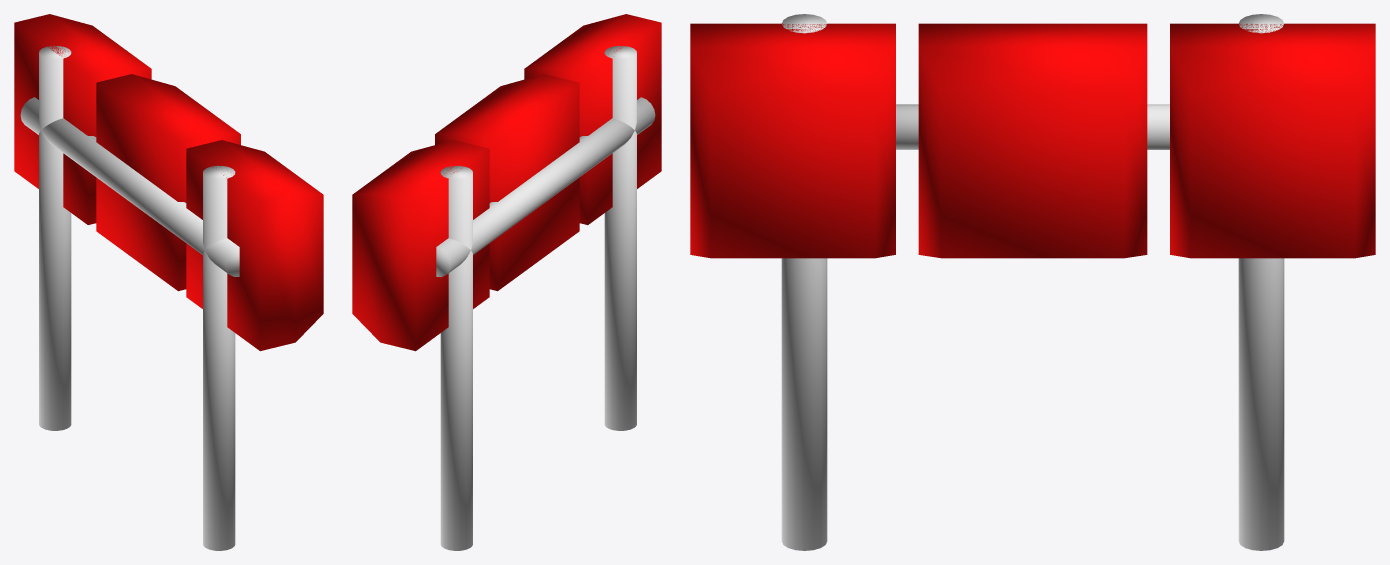
Rendered from TriplePad.fbx.
3 views of the same model, side by side, from view 1: azimuth 30°, elevation 25°; view 2: azimuth 150°, elevation 25°; view 3: azimuth 270°, elevation 25° (orthographic). The views are drawn at different scales.
Visible parts, largest first — view 1: Pad, Cylinder, Cylinder.001, Cylinder.002; view 2: Pad, Cylinder, Cylinder.001, Cylinder.002; view 3: Pad, Cylinder, Cylinder.001, Cylinder.002.
Part boxes in pixels (box(x1,y1,x2,y2)): Pad: box(14, 14, 323, 351); Cylinder: box(203, 165, 235, 550); Cylinder.001: box(39, 45, 71, 430); Cylinder.002: box(20, 97, 239, 276); Pad: box(352, 14, 661, 351); Cylinder: box(604, 46, 636, 430); Cylinder.001: box(440, 165, 472, 550); Cylinder.002: box(436, 97, 655, 276); Pad: box(690, 23, 1375, 258); Cylinder: box(781, 14, 827, 550); Cylinder.001: box(1238, 14, 1284, 550); Cylinder.002: box(896, 104, 1169, 149).
Bounding box in the file's own units: 60 × 250 × 300.
